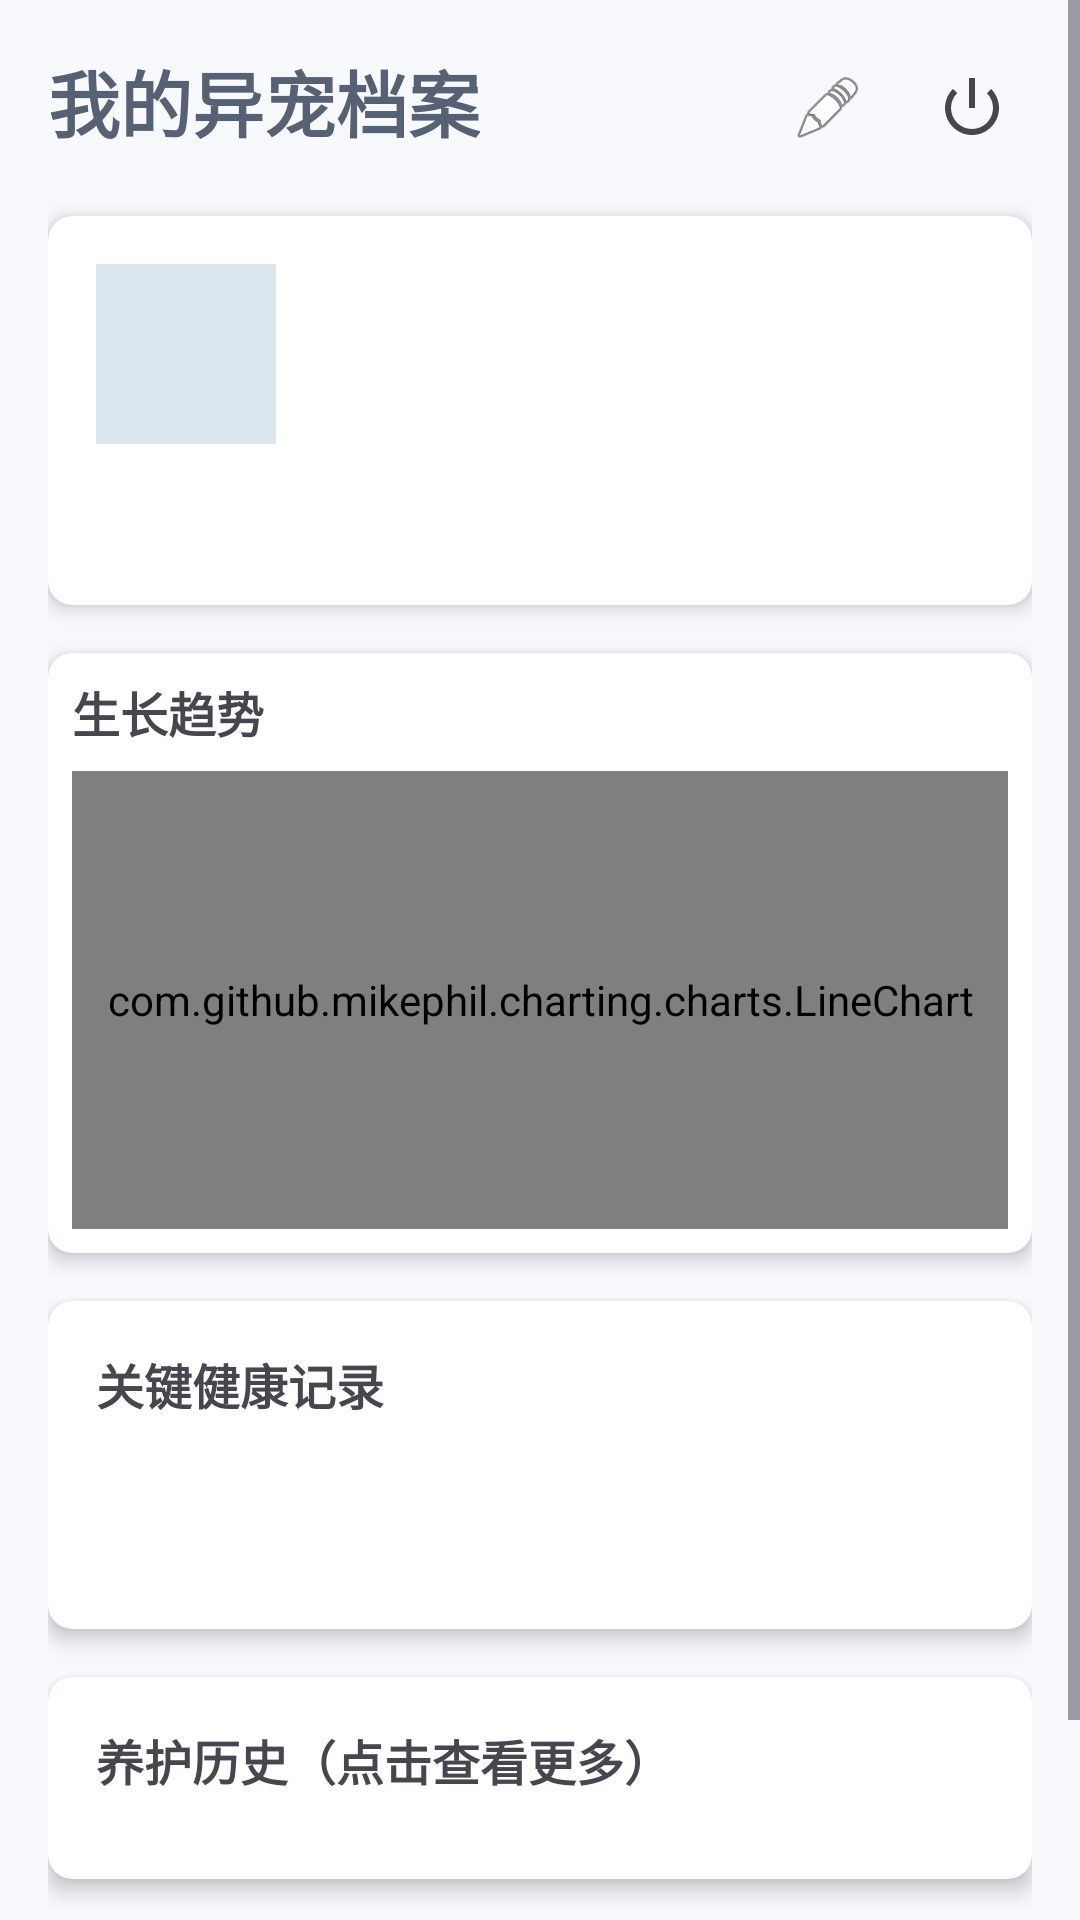

Icon bounding boxes for this 1080×1920 phone screenshot, format (x1=x1, y1=y1, x2=x2, y2=y2):
edit: (x1=797, y1=77, x2=858, y2=138)
lock power off: (x1=945, y1=78, x2=999, y2=135)
